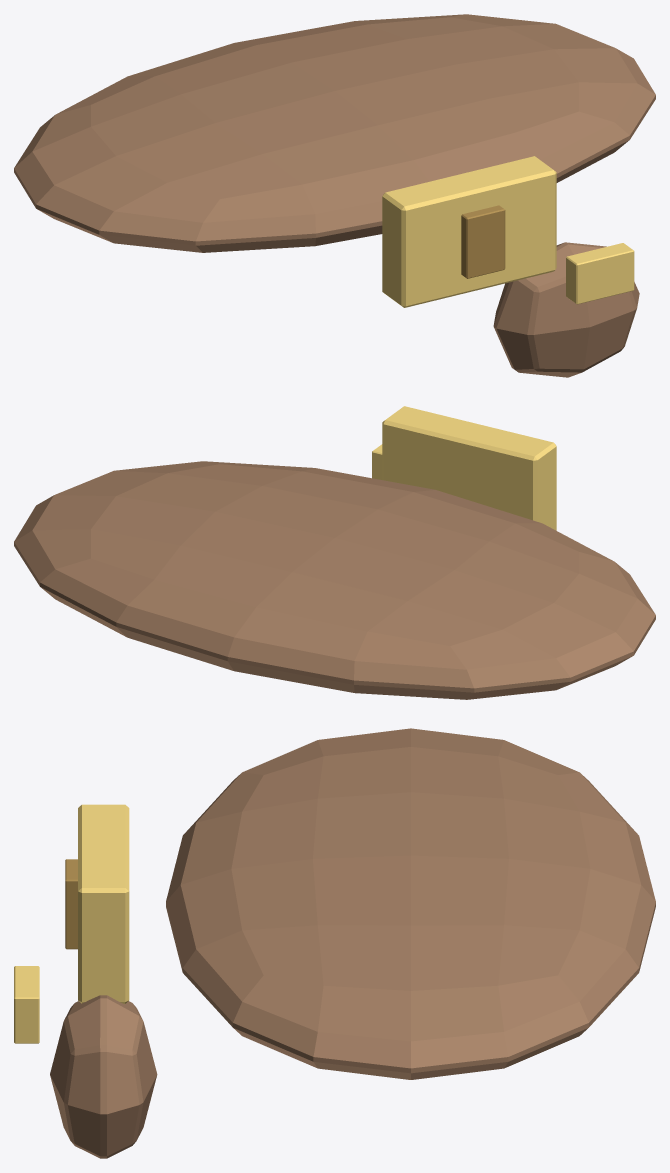
File: belt_leather.glb
3 renders of one model, top to bottom at view 1: azimuth 30°, elevation 25°; view 2: azimuth 150°, elevation 25°; view 3: azimuth 270°, elevation 25°, orthographic. The views are drawn at different scales.
Parts seen in each view (by area): view 1: Belt; view 2: Belt; view 3: Belt.
Boxes of the visible parts, bbox=[...] form: Belt: bbox=[14, 14, 655, 377]; Belt: bbox=[14, 406, 655, 699]; Belt: bbox=[14, 728, 655, 1158].
Bounding box in the file's own units: 0.6159 × 0.2156 × 0.5014.
